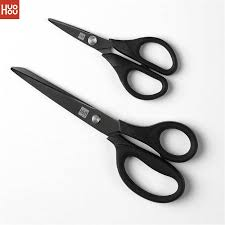tihiras: (46, 16, 187, 100)
